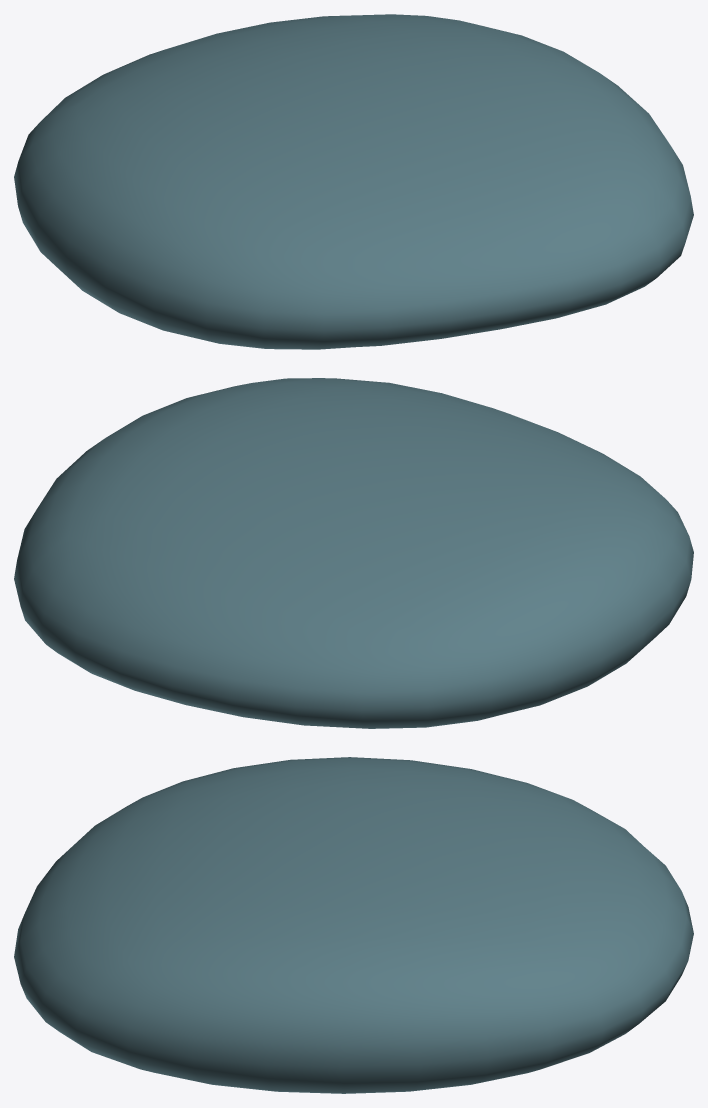
The model's file is Rock_B_01.fbx.
3 renders of one model, top to bottom at view 1: azimuth 30°, elevation 25°; view 2: azimuth 150°, elevation 25°; view 3: azimuth 270°, elevation 25°, orthographic.
Visible parts, largest first — view 1: Rock_B_01_LOD0; view 2: Rock_B_01_LOD0; view 3: Rock_B_01_LOD0.
Boxes of the visible parts, x1=… form: Rock_B_01_LOD0: x1=14, y1=14, x2=693, y2=349; Rock_B_01_LOD0: x1=14, y1=378, x2=693, y2=728; Rock_B_01_LOD0: x1=14, y1=757, x2=693, y2=1093.
Size of what is drawn, in the model's own units: 398 by 100 by 414.
